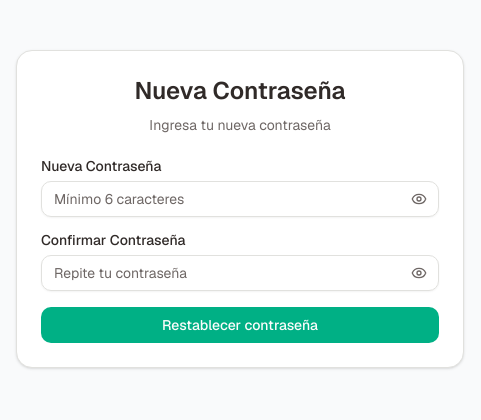
Test: ResetPasswordConfirmPage › should validate password match
Type "password123" into the password field labelled "Nueva Contraseña" at (240, 199), box [41,181,439,217]
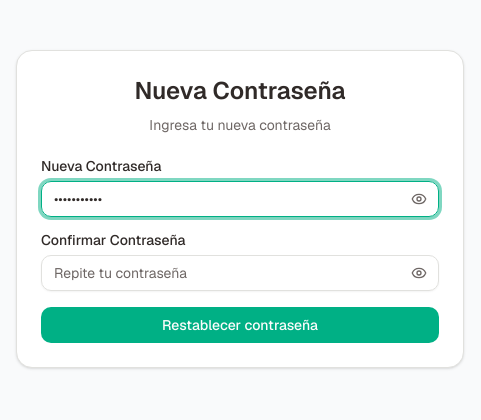
Type "different123" into the password field labelled "Confirmar Contraseña" at (240, 273), box [41,255,439,291]
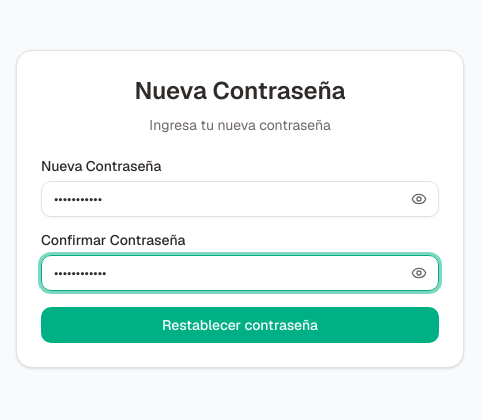
Click the button "Restablecer contraseña" at (240, 325), box [41,307,439,343]
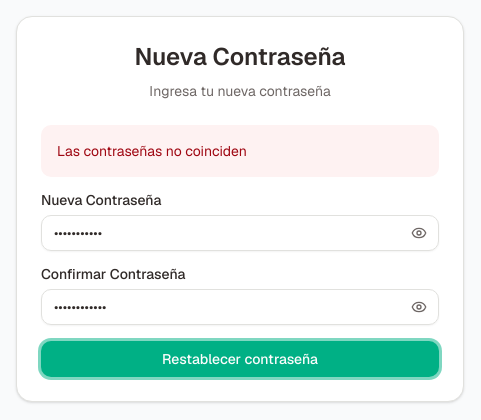
Expected: the text "Las contraseñas no coinciden" is shown, [57,142,247,160]
